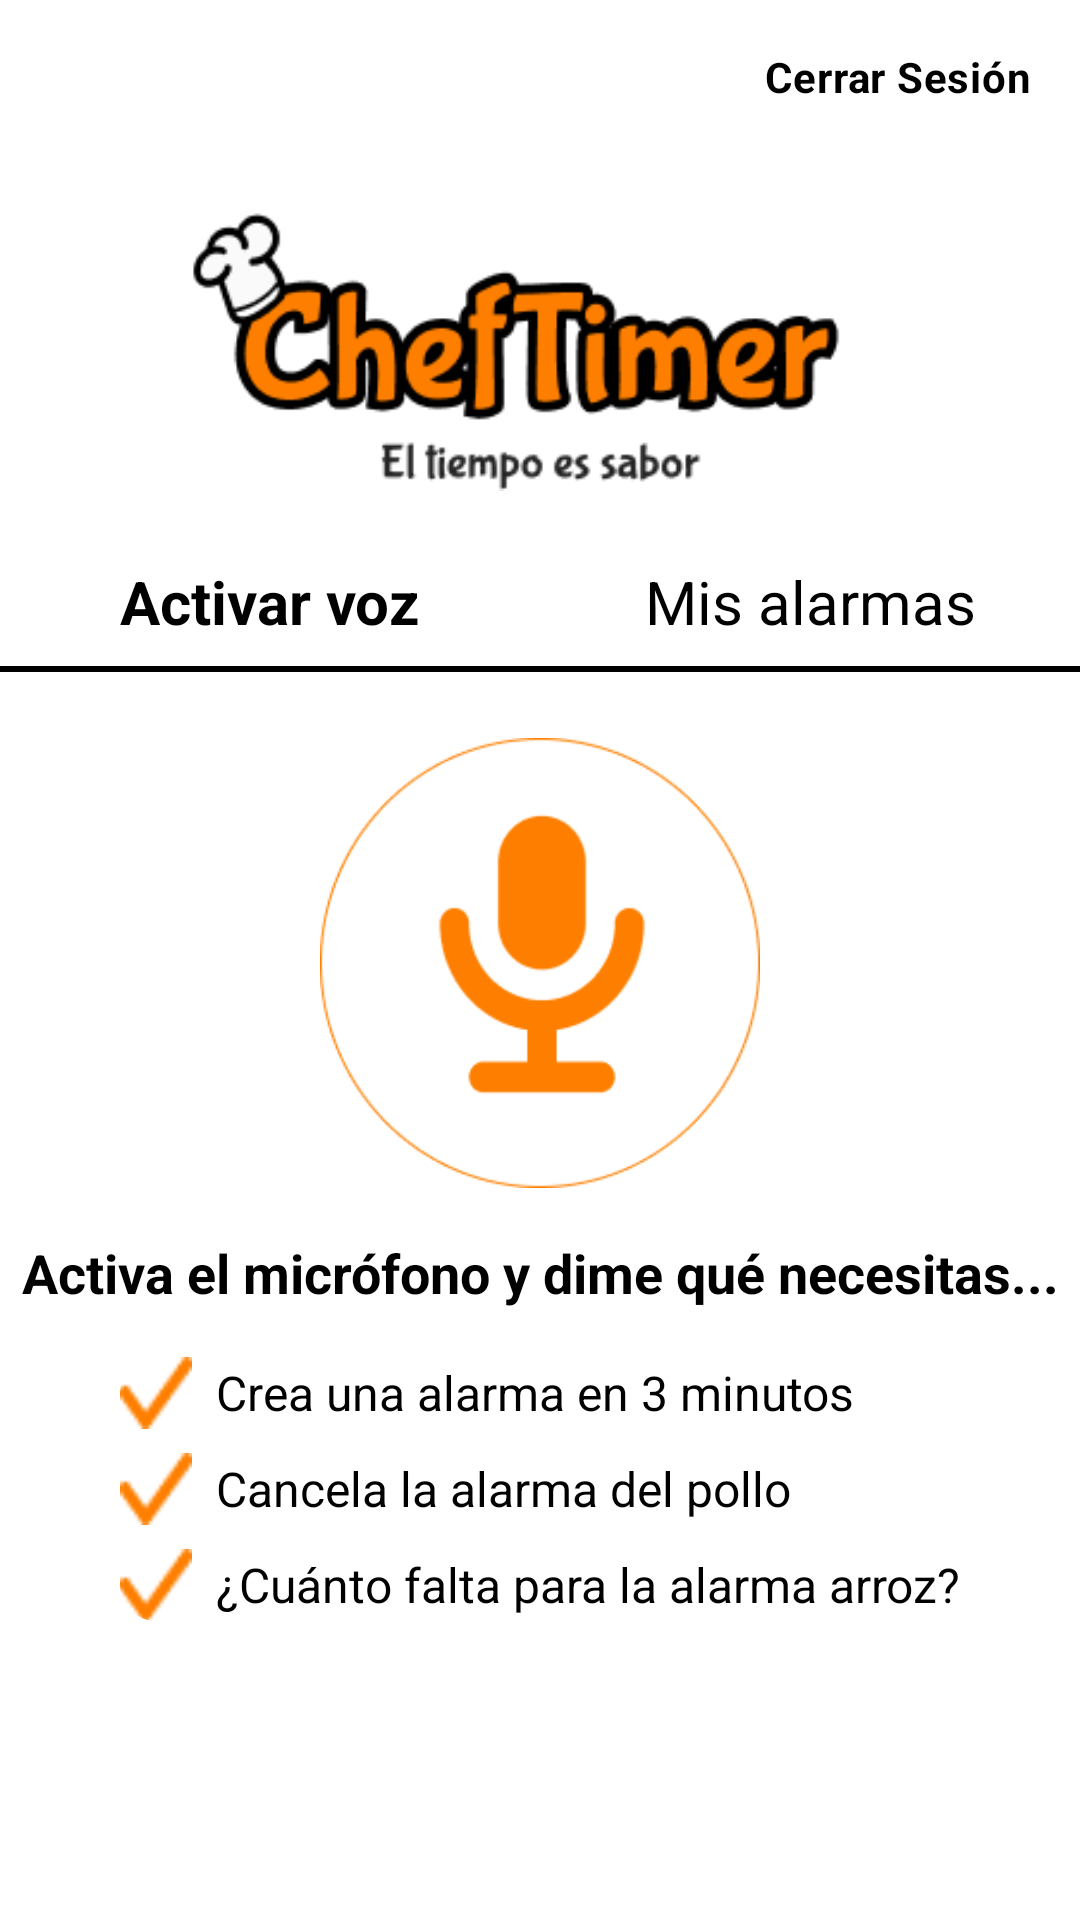

Named icons in this screenshot (1080w x 1920h) and their centers, point (x, y):
check: point (156, 1393), point (156, 1489), point (156, 1584)
